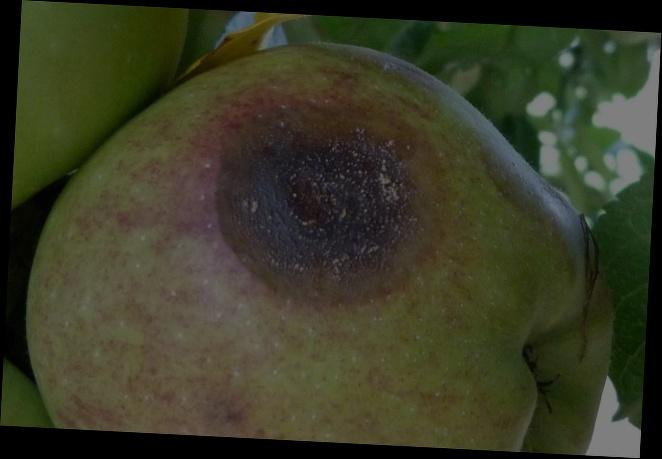rotten apple: (23, 42, 638, 442)
